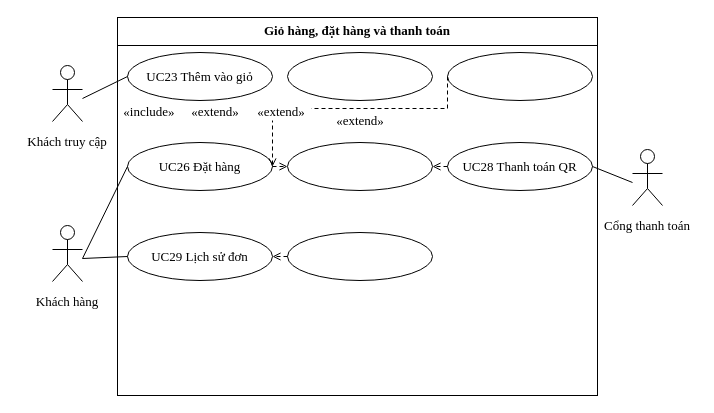
Some shapes in this 714 by 413 pixel diagram are drawn without their labels. Here are the shapes that lost their labels. From the top down, the centre of each, then its label:
At (x=359, y=76): "UC24 Cập nhật giỏ".
At (x=519, y=76): "UC25 Áp mã giảm".
At (x=359, y=166): "UC27 Chọn thanh toán".
At (x=359, y=256): "UC30 Theo dõi đơn".
